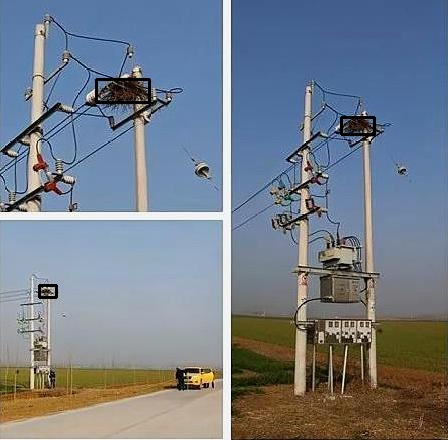bird-nest: (96, 79, 149, 102), (341, 117, 374, 134), (39, 285, 56, 297)
